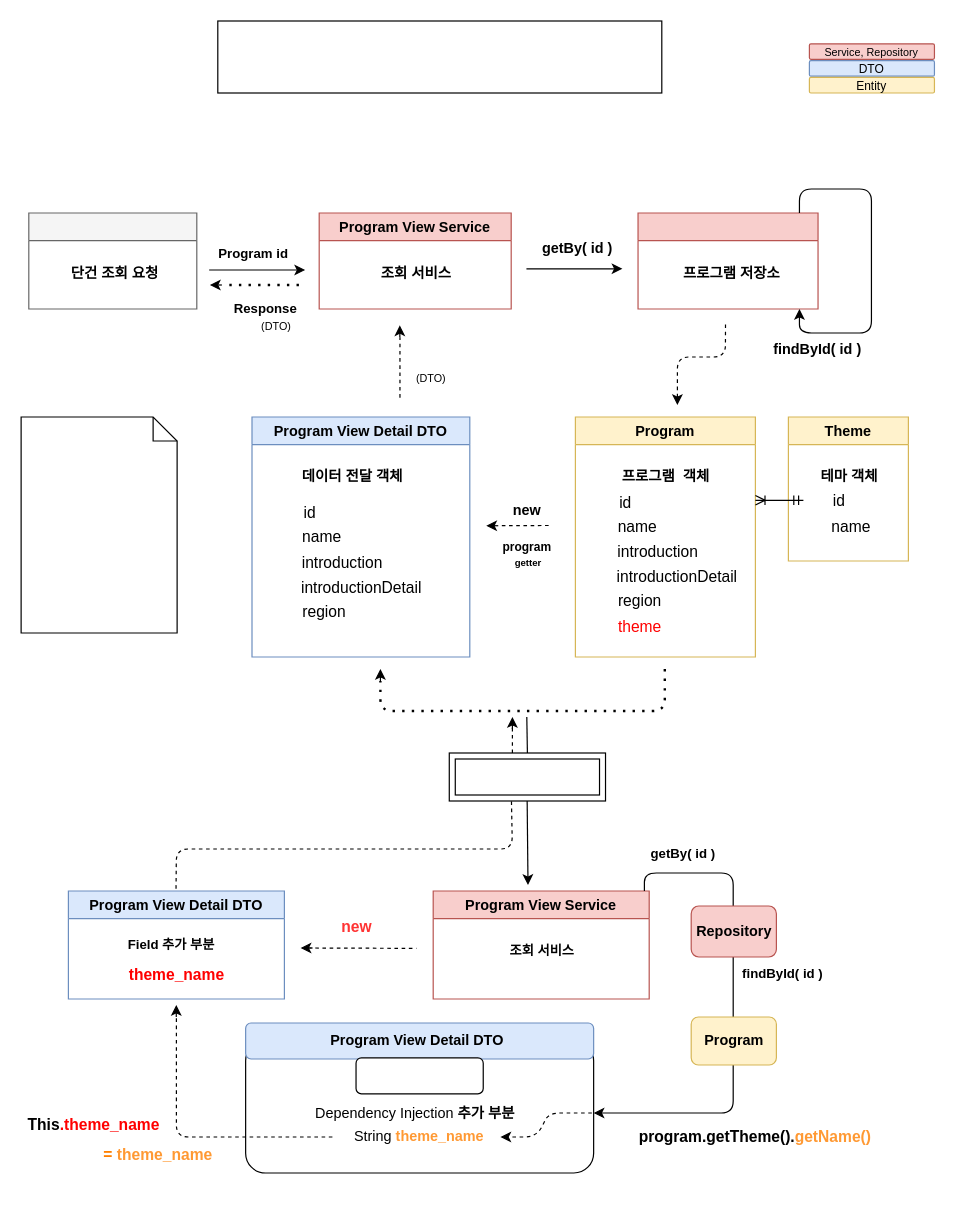
The diagram is 956 pixels wide and 1222 high, and some of its shapes have lost their labels. Here are the shapes that lost their labels. From the top down, the box of each, then its label:
(217, 20, 662, 93): Program 조회 View - 테마 이름 추가
(28, 212, 197, 309): 클라이언트
(637, 212, 818, 309): Program Repository
(20, 416, 177, 633): 수정 내용 개요 DTO 생성 시 Program 객체로 부터 누락된 theme 객체 를 가져와 DTO 속성에 추가 한다 .
(448, 752, 606, 801): theme_name 추가
(355, 1057, 483, 1094): Constructor
